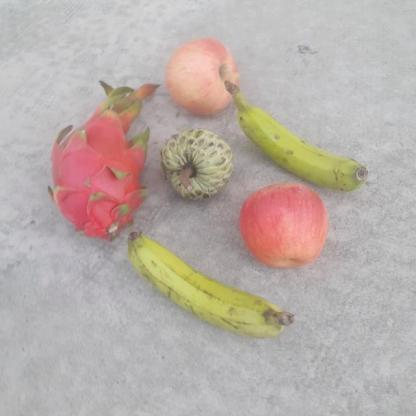annona: (159, 127, 234, 201)
apple: (239, 180, 328, 268), (163, 36, 242, 119)
banana: (126, 228, 297, 338), (224, 80, 369, 191)
pitaya: (45, 113, 151, 243)
